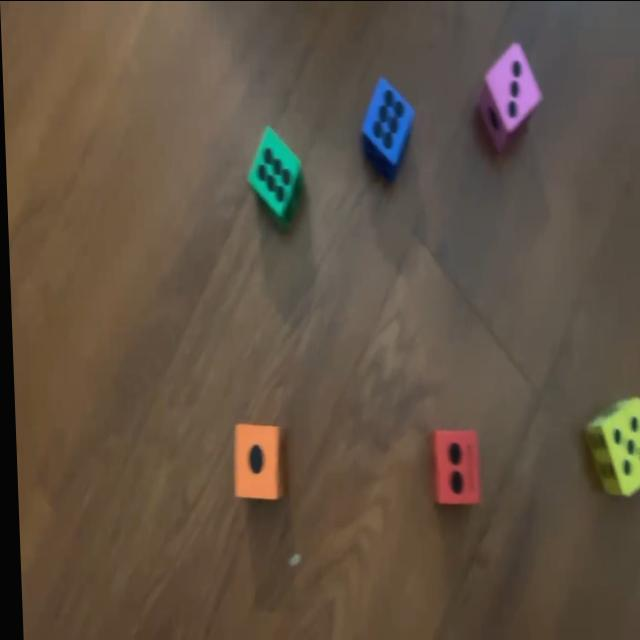blue_block: (357, 74, 418, 180)
red_block: (423, 430, 476, 508)
